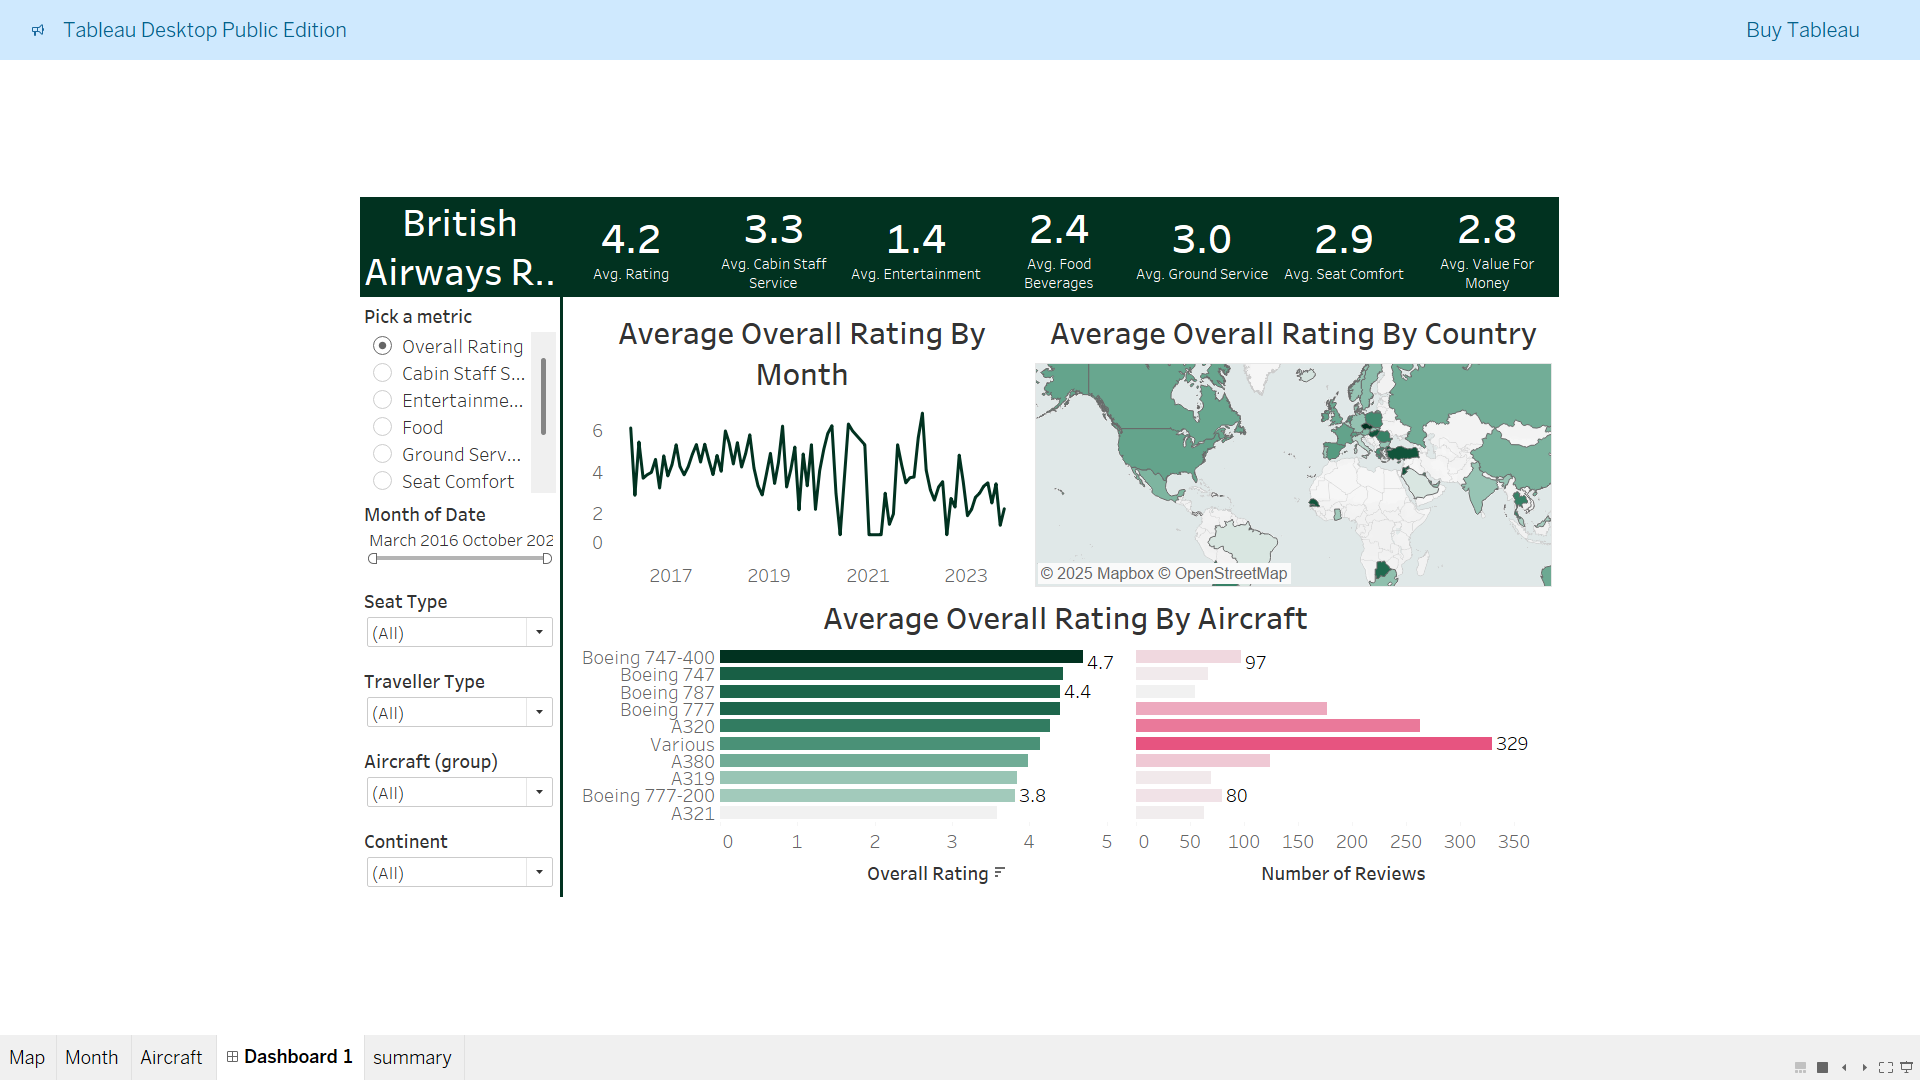

The page's visual inventory and layout, read from the dashboard file:
{"tool":"tableau","page":{"name":"Dashboard 1","canvas":[1200,700],"ordinal":0},"visuals":[{"type":"text","box":[0,0,200,100]},{"type":"worksheet","title":"summary","mark":"Automatic","box":[200,0,999,100]},{"type":"blank","box":[200,100,3,600]},{"type":"parameter","param":"[Parameters].[Parameter 1]","box":[0,102,200,198]},{"type":"worksheet","title":"Month","mark":"Automatic","rows":["Calculation_467529988195790848"],"cols":["date"],"box":[220,110,444,280]},{"type":"worksheet","title":"Map","mark":"Automatic","box":[675,110,517,280]},{"type":"filter","title":"Map","param":"[federated.1pcnwoo1g4pvph10ksfk00hadk1e].[tmn:date:qk]","box":[0,300,200,77]},{"type":"blank","box":[0,377,200,10]},{"type":"filter","title":"Map","param":"[federated.1pcnwoo1g4pvph10ksfk00hadk1e].[none:seat_type:nk]","box":[0,387,200,70]},{"type":"worksheet","title":"Aircraft","mark":"Automatic","cols":["Calculation_467529988195790848","ba_reviews.csv_693B5AD7C0CC43C9AB5E245D8FB67E5F"],"box":[220,395,971,300]},{"type":"blank","box":[0,457,200,10]},{"type":"filter","title":"Map","param":"[federated.1pcnwoo1g4pvph10ksfk00hadk1e].[none:traveller_type:nk]","box":[0,467,200,70]},{"type":"blank","box":[0,537,200,10]},{"type":"filter","title":"Map","param":"[federated.1pcnwoo1g4pvph10ksfk00hadk1e].[Aircraft (group)]","box":[0,547,200,70]},{"type":"blank","box":[0,617,200,10]},{"type":"filter","title":"Map","param":"[federated.1pcnwoo1g4pvph10ksfk00hadk1e].[none:Continent:nk]","box":[0,627,200,70]}]}

Visuals, with their boxes on the page's 1200x700 design canvas (x1, y1, x2, y2). These are canvas units, not pixel positions in the 1920x1080 screenshot, which may show the page scaled, cropped or inside an application window:
text: <bbox>0, 0, 200, 100</bbox>
"summary" worksheet: <bbox>200, 0, 1199, 100</bbox>
blank: <bbox>200, 100, 203, 700</bbox>
parameter: <bbox>0, 102, 200, 300</bbox>
"Month" worksheet: <bbox>220, 110, 664, 390</bbox>
"Map" worksheet: <bbox>675, 110, 1192, 390</bbox>
"Map" filter: <bbox>0, 300, 200, 377</bbox>
blank: <bbox>0, 377, 200, 387</bbox>
"Map" filter: <bbox>0, 387, 200, 457</bbox>
"Aircraft" worksheet: <bbox>220, 395, 1191, 695</bbox>
blank: <bbox>0, 457, 200, 467</bbox>
"Map" filter: <bbox>0, 467, 200, 537</bbox>
blank: <bbox>0, 537, 200, 547</bbox>
"Map" filter: <bbox>0, 547, 200, 617</bbox>
blank: <bbox>0, 617, 200, 627</bbox>
"Map" filter: <bbox>0, 627, 200, 697</bbox>
